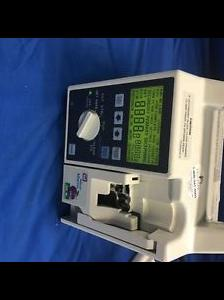plumxl1: (58, 68, 224, 263)
